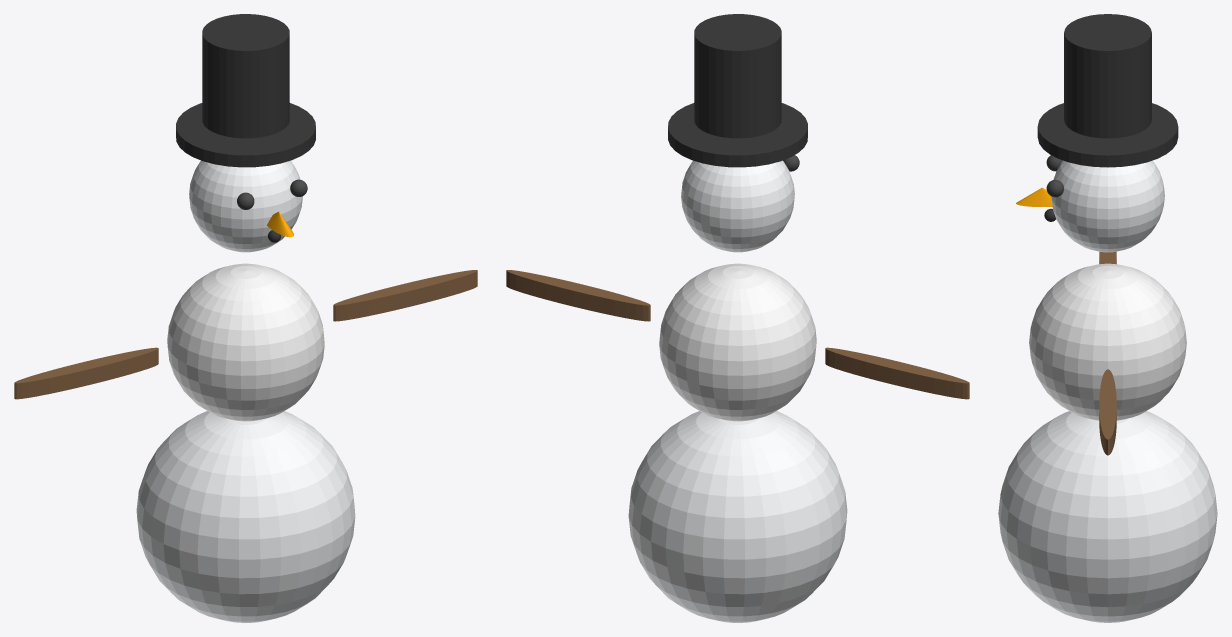
3 views of the same model, side by side, from view 1: azimuth 30°, elevation 25°; view 2: azimuth 150°, elevation 25°; view 3: azimuth 270°, elevation 25° (orthographic).
Parts seen in each view (by area): view 1: Sphere; view 2: Sphere; view 3: Sphere.
Boxes of the visible parts, bbox=[...] form: Sphere: bbox=[14, 14, 477, 622]; Sphere: bbox=[506, 14, 969, 622]; Sphere: bbox=[998, 14, 1217, 622].
Size of the model in its own units: 0.183 by 0.219 by 0.075.
